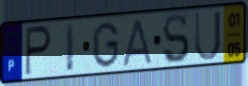A: (121, 17, 154, 68)
G: (91, 20, 121, 70)
I: (64, 22, 76, 75)
P: (23, 23, 54, 78)
S: (161, 12, 191, 66)
U: (193, 9, 222, 63)
